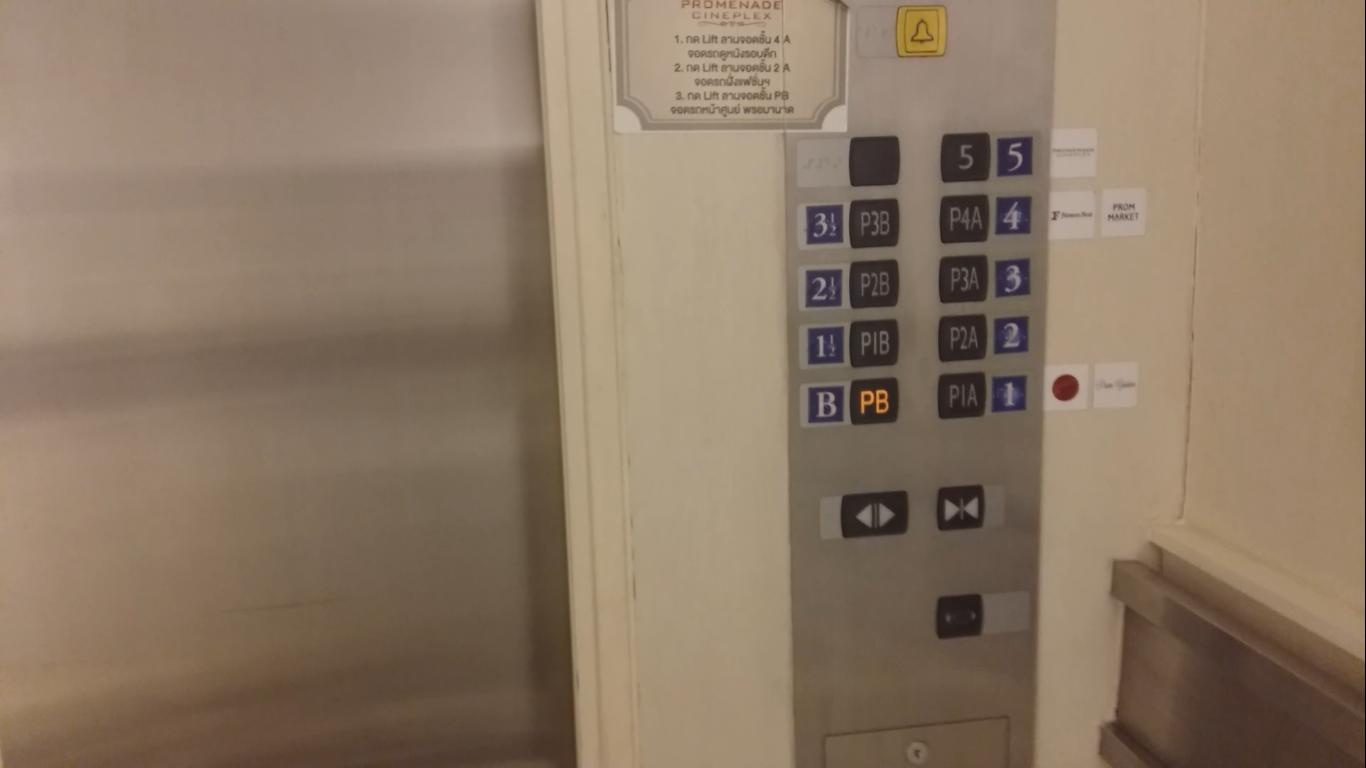1: (989, 373, 1029, 414)
2: (991, 313, 1031, 354)
3: (992, 254, 1032, 298)
4: (993, 191, 1034, 239)
5: (939, 129, 991, 184), (994, 131, 1035, 179)
B: (805, 383, 845, 424)
P1A: (937, 368, 988, 419)
P1B: (847, 315, 900, 369)
P2A: (937, 311, 988, 362)
P2B: (847, 256, 900, 310)
P3A: (937, 250, 990, 304)
P3B: (847, 195, 900, 249)
P4A: (938, 191, 991, 245)
PB: (847, 373, 900, 427)
blur: (930, 590, 987, 642)
close: (934, 482, 985, 533)
empty: (847, 132, 901, 188)
open: (836, 489, 912, 538)
text_1.5: (804, 324, 844, 365)
text_2.5: (803, 267, 843, 308)
text_3.5: (803, 204, 843, 245)
